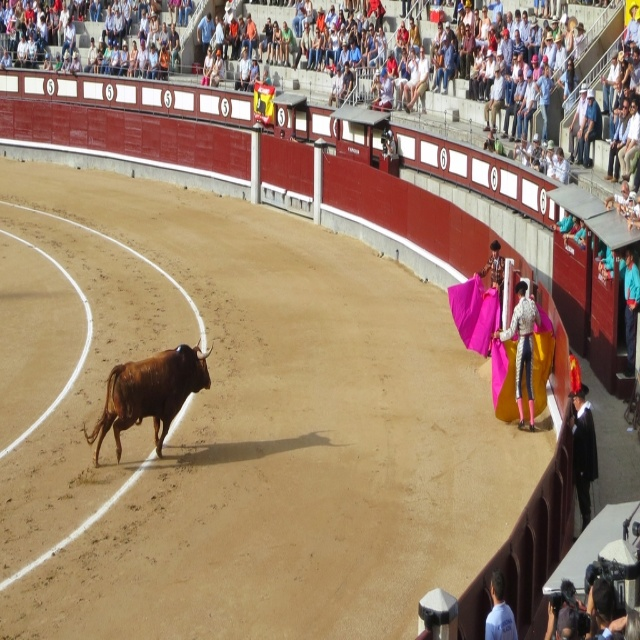Bull: (80, 334, 214, 469)
